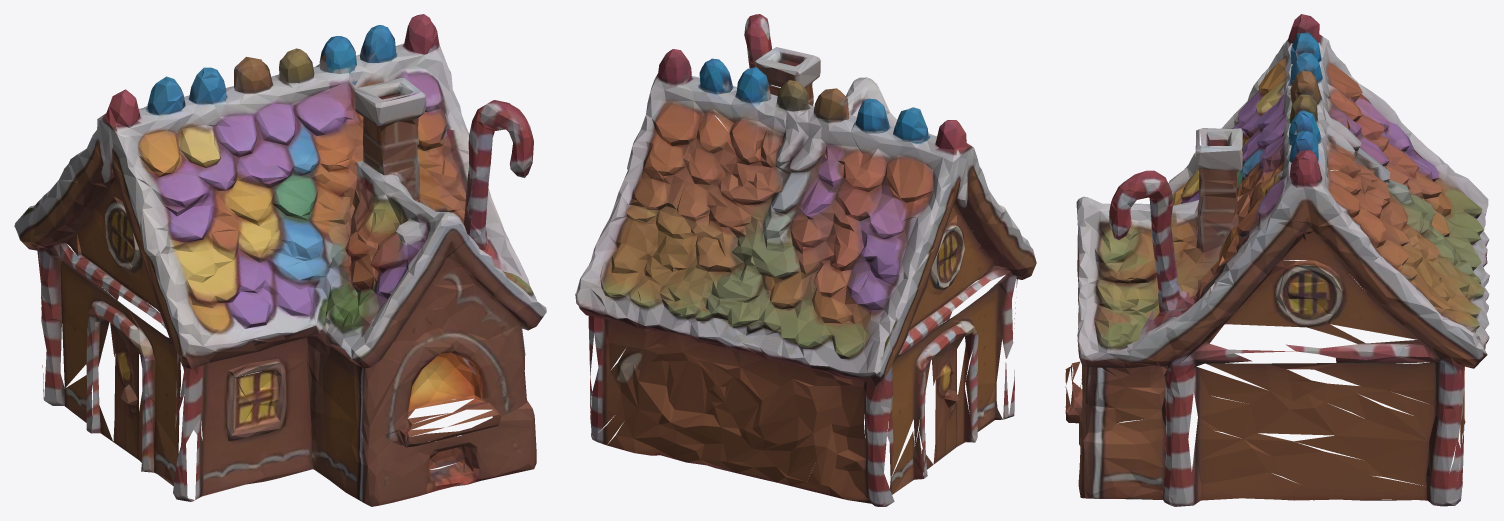
Rendered from gingerbread_house.glb.
3 views of the same model, side by side, from view 1: azimuth 30°, elevation 25°; view 2: azimuth 150°, elevation 25°; view 3: azimuth 270°, elevation 25° (orthographic). The views are drawn at different scales.
Parts seen in each view (by area): view 1: geometry_0; view 2: geometry_0; view 3: geometry_0.
Part boxes in pixels (x1,y1,x2,y2): geometry_0: (14,14,546,506); geometry_0: (575,14,1036,506); geometry_0: (1065,14,1489,506).
Size of the model in its own units: 2.62 by 2.73 by 3.
Materials: 1 (1 with a texture image).
